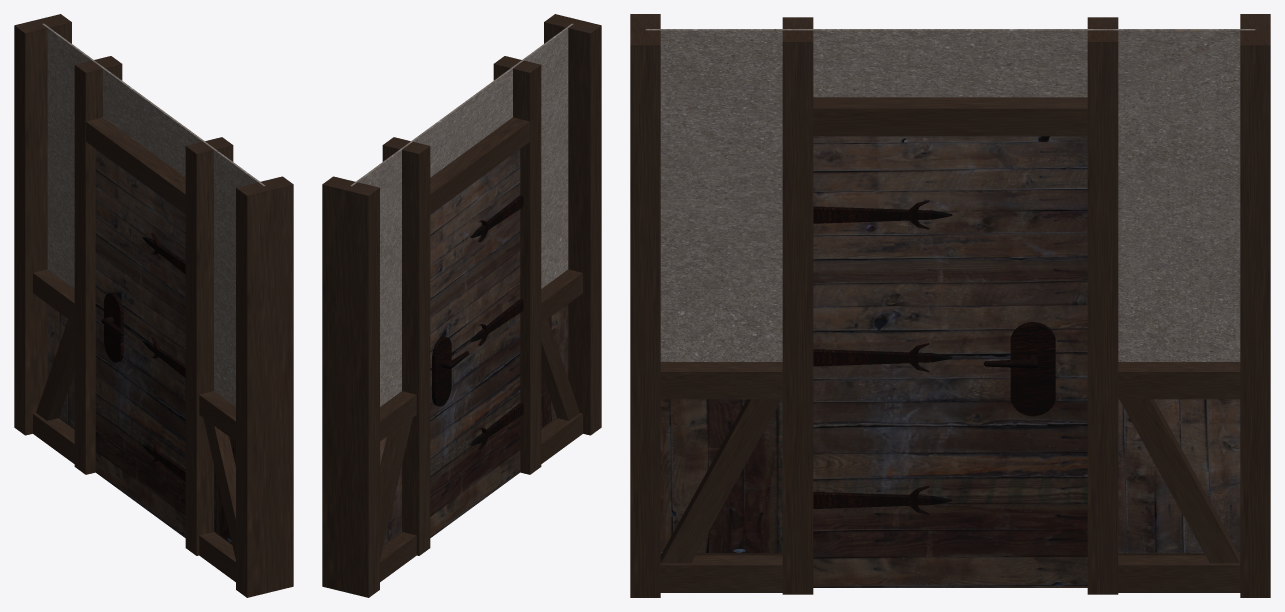
The model's file is OutdoorArchitecture_BasicWall01_Door01_Closed_BothEdges_BShortt.fbx.
The picture shows the model from 3 angles, left to right: view 1: azimuth 30°, elevation 25°; view 2: azimuth 150°, elevation 25°; view 3: azimuth 270°, elevation 25°; orthographic projection. The views are drawn at different scales.
Visible parts, largest first — view 1: OutdoorArchitecture_BasicWall01_Door01_Closed_BothEdges_BSho; view 2: OutdoorArchitecture_BasicWall01_Door01_Closed_BothEdges_BSho; view 3: OutdoorArchitecture_BasicWall01_Door01_Closed_BothEdges_BSho.
Part boxes in pixels (bbox=[...]): OutdoorArchitecture_BasicWall01_Door01_Closed_BothEdges_BSho: bbox=[14, 14, 293, 597]; OutdoorArchitecture_BasicWall01_Door01_Closed_BothEdges_BSho: bbox=[322, 14, 601, 597]; OutdoorArchitecture_BasicWall01_Door01_Closed_BothEdges_BSho: bbox=[630, 14, 1270, 597].
Bounding box in the file's own units: 36.37 × 300 × 315.
